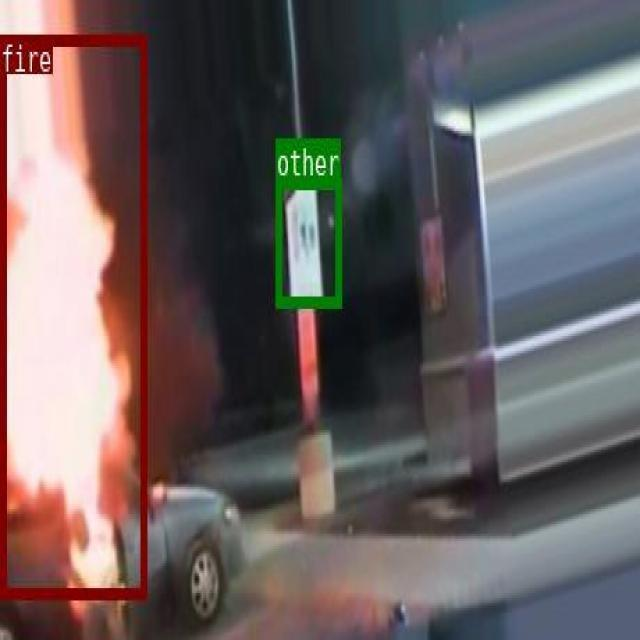fire: (0, 32, 146, 598)
